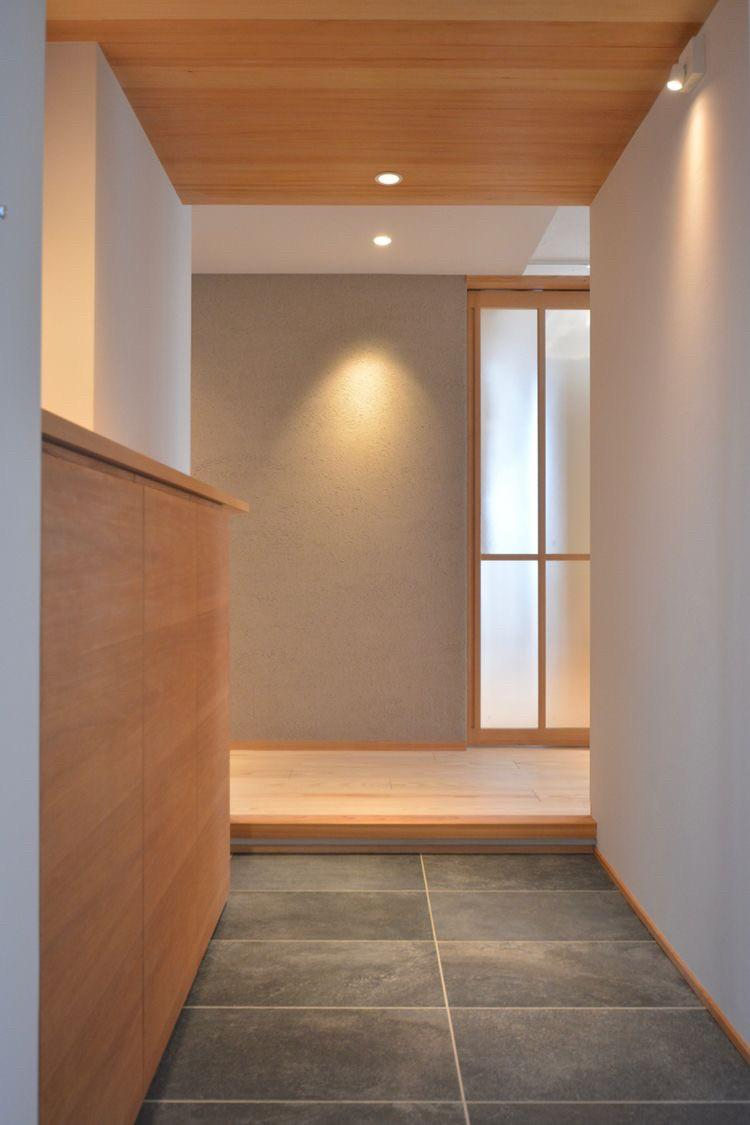floor: (133, 854, 749, 1124)
safe: (230, 746, 598, 824)
